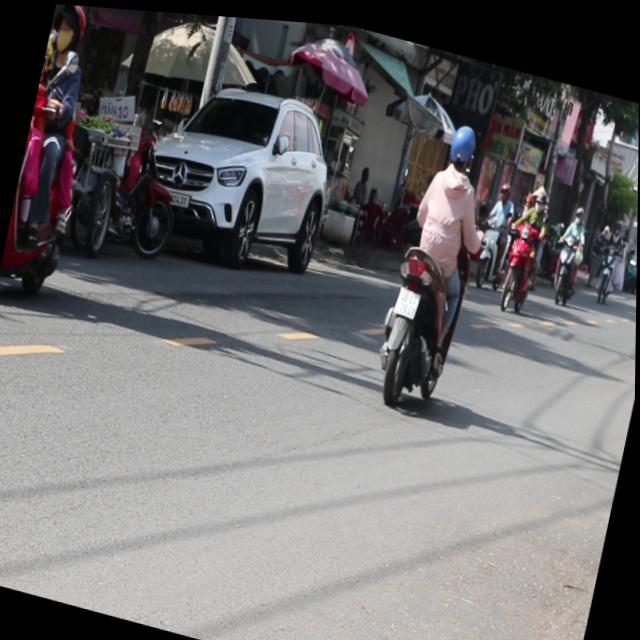helmet: (46, 3, 89, 61), (443, 113, 481, 169), (41, 34, 56, 81)
licenseplate: (368, 102, 502, 414), (0, 0, 116, 321)
nohelmet: (394, 279, 422, 313)
